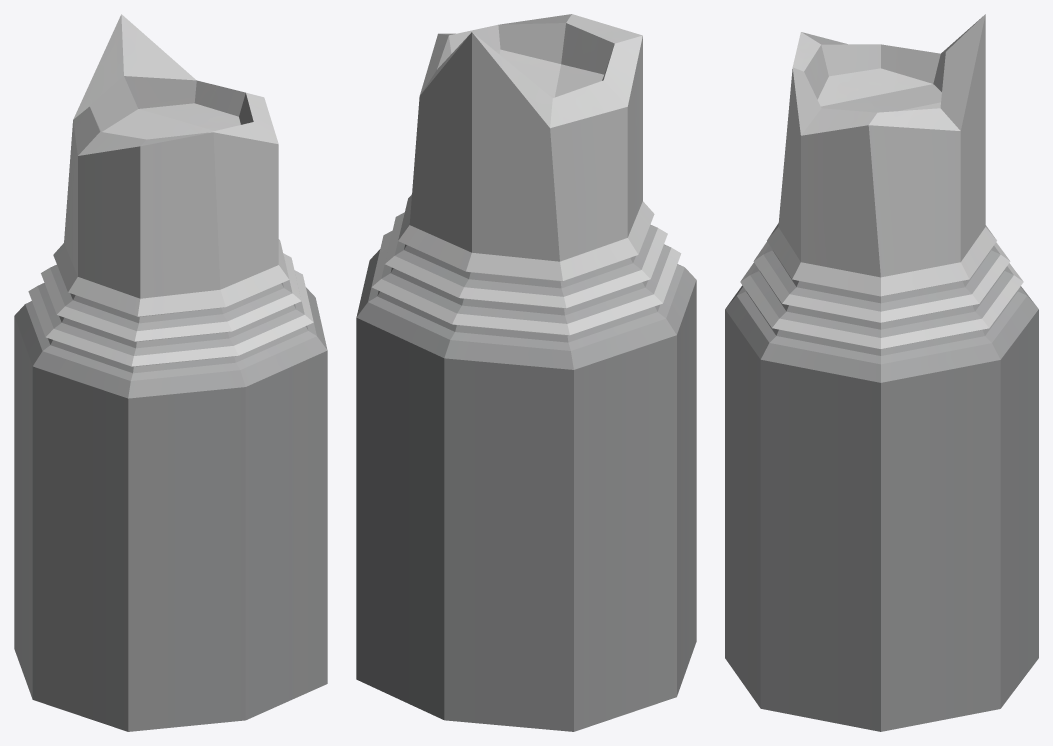
The model's file is gas_station_column_A.glb.
3 renders of one model, left to right at view 1: azimuth 30°, elevation 25°; view 2: azimuth 150°, elevation 25°; view 3: azimuth 270°, elevation 25°, orthographic. The views are drawn at different scales.
Visible parts, largest first — view 1: gas_station_column_A; view 2: gas_station_column_A; view 3: gas_station_column_A.
Boxes of the visible parts, x1,y1,x2,y2 form: gas_station_column_A: [14, 14, 327, 731]; gas_station_column_A: [356, 14, 696, 731]; gas_station_column_A: [725, 14, 1038, 731].
Bounding box in the file's own units: 0.7757 × 1.61 × 0.7113.
1 material, 1 textured.
